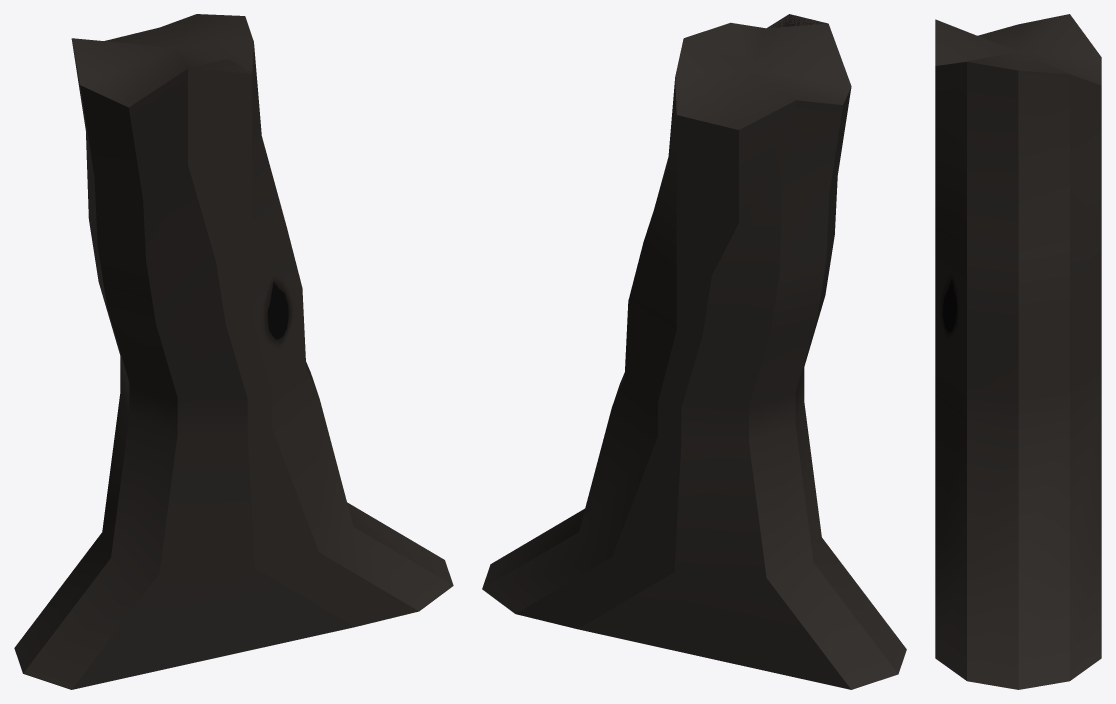
The model's file is Tree_Dead4.fbx.
3 renders of one model, left to right at view 1: azimuth 30°, elevation 25°; view 2: azimuth 150°, elevation 25°; view 3: azimuth 270°, elevation 25°, orthographic. The views are drawn at different scales.
Visible parts, largest first — view 1: pCylinder4; view 2: pCylinder4; view 3: pCylinder4.
Boxes of the visible parts, left/top/right/bottom form: pCylinder4: left=14, top=14, right=453, bottom=689; pCylinder4: left=482, top=14, right=906, bottom=689; pCylinder4: left=935, top=14, right=1101, bottom=689.
Size of the model in its own units: 1.62 by 2.24 by 0.6161.
